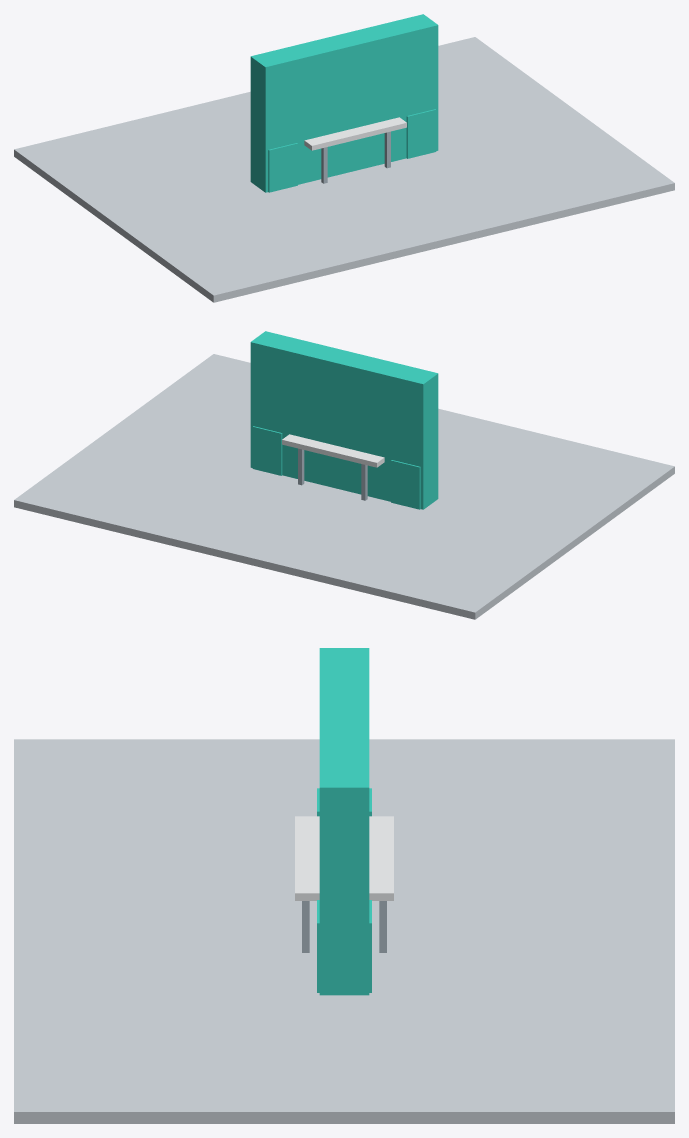
3 views of the same model, one above another, from view 1: azimuth 30°, elevation 25°; view 2: azimuth 150°, elevation 25°; view 3: azimuth 270°, elevation 25° (orthographic). The views are drawn at different scales.
Parts seen in each view (by area): view 1: Exhibition Booth Concept; view 2: Exhibition Booth Concept; view 3: Exhibition Booth Concept.
Part boxes in pixels (x1=…): Exhibition Booth Concept: x1=14, y1=14, x2=674, y2=302; Exhibition Booth Concept: x1=14, y1=331, x2=674, y2=619; Exhibition Booth Concept: x1=14, y1=648, x2=674, y2=1123.
Size of the model in its own units: 8 by 2.2 by 6.
